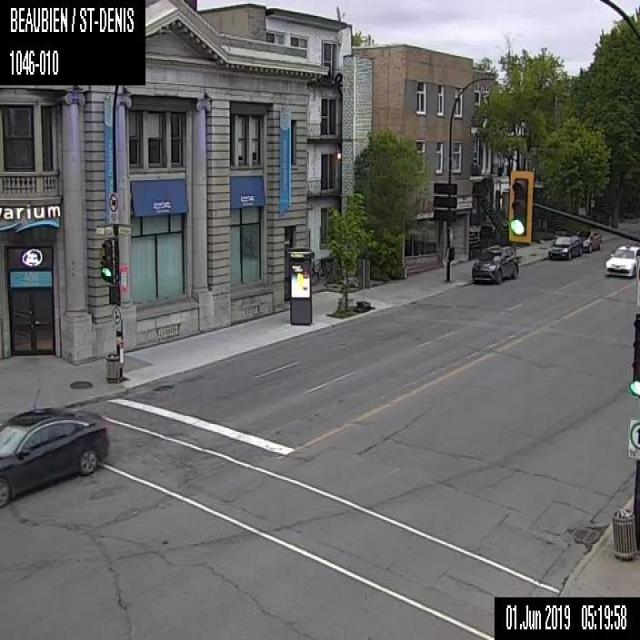vehicle: (0, 408, 108, 508), (471, 244, 518, 284), (604, 243, 639, 277), (547, 235, 582, 259), (575, 229, 602, 252)
